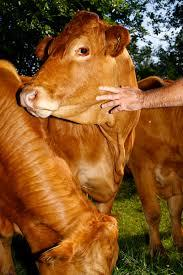cow: (0, 61, 119, 275), (19, 14, 140, 212), (128, 79, 183, 250)
